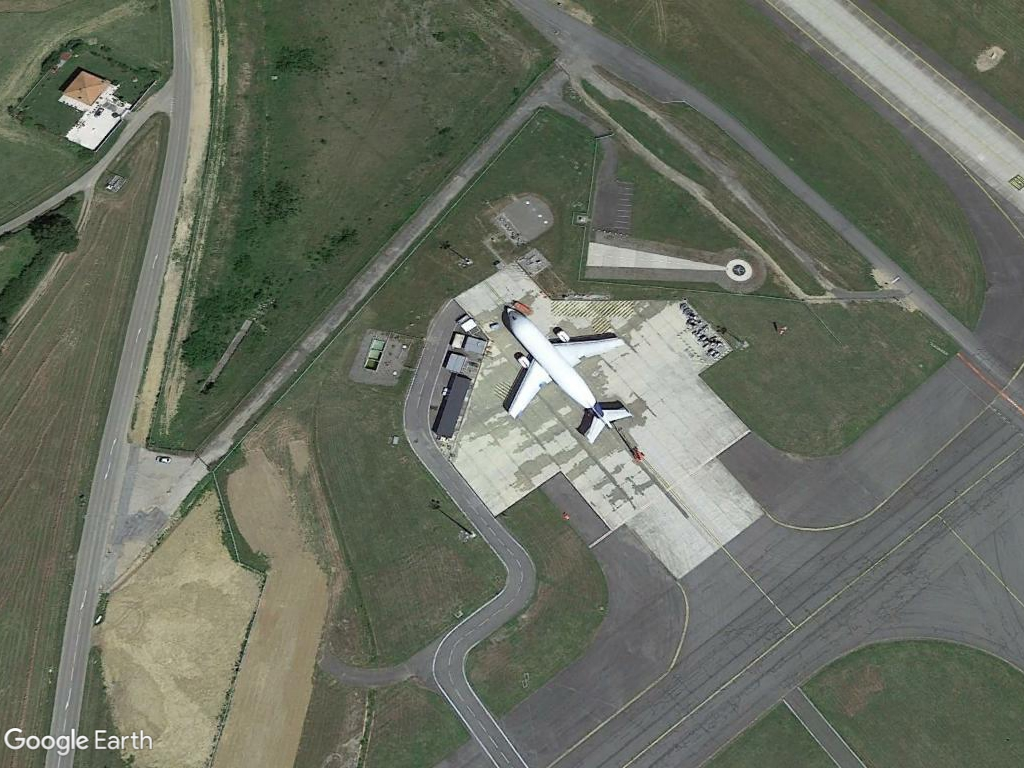airliner: (494, 301, 635, 443)
